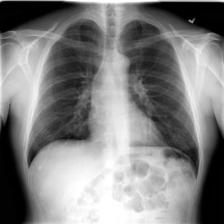normal: (23, 11, 203, 184)
